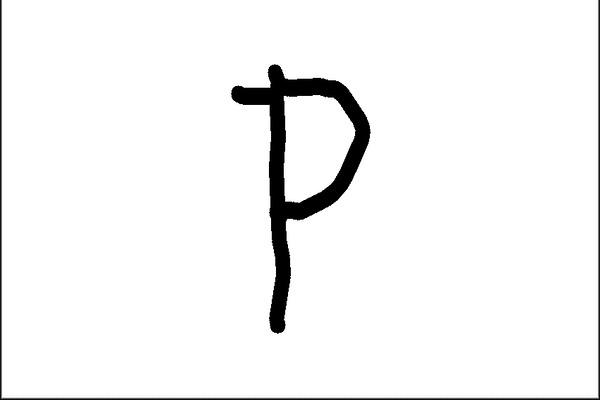P: (221, 54, 382, 338)
